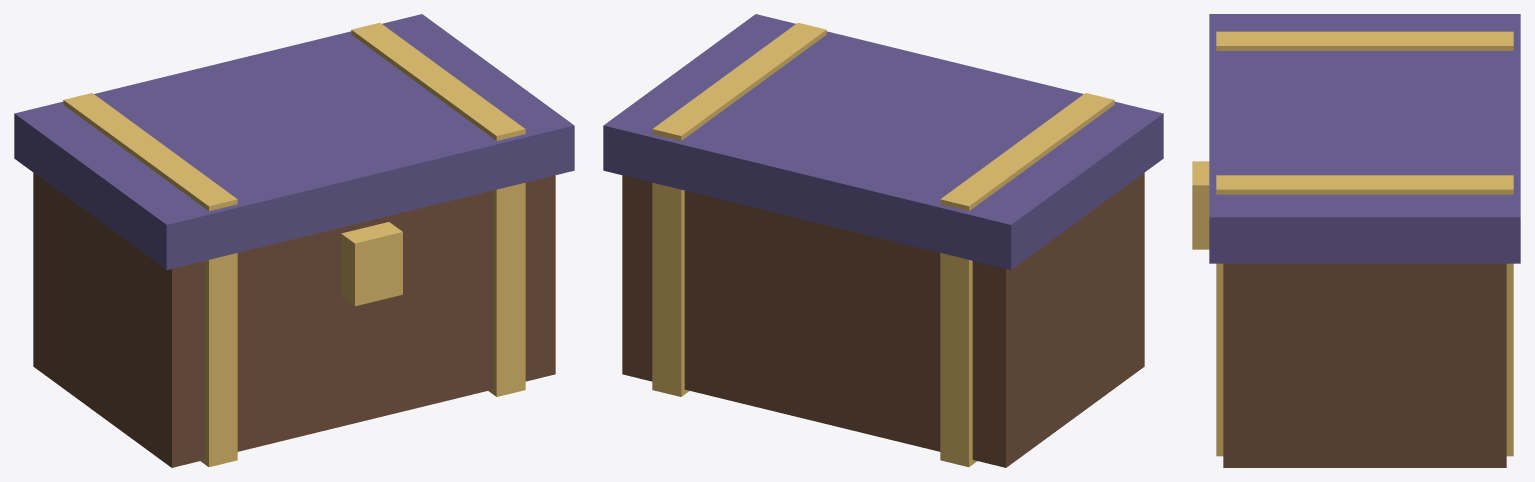
Rendered from chest.glb.
The picture shows the model from 3 angles, left to right: view 1: azimuth 30°, elevation 25°; view 2: azimuth 150°, elevation 25°; view 3: azimuth 270°, elevation 25°; orthographic projection. The views are drawn at different scales.
Visible parts, largest first — view 1: Chest base, Chest lid, Gold chest band.001, Gold chest band, Lock; view 2: Chest base, Chest lid, Gold chest band.001, Gold chest band; view 3: Chest lid, Chest base, Gold chest band.001, Gold chest band, Lock.
Part boxes in pixels (x1,y1,x2,y2): Chest base: (33, 173, 555, 467); Chest lid: (14, 14, 574, 269); Gold chest band.001: (351, 22, 525, 396); Gold chest band: (63, 93, 237, 467); Lock: (341, 222, 402, 306); Chest base: (622, 173, 1144, 467); Chest lid: (603, 14, 1163, 269); Gold chest band.001: (652, 22, 826, 396); Gold chest band: (940, 93, 1114, 467); Chest lid: (1209, 14, 1520, 263); Chest base: (1223, 263, 1506, 467); Gold chest band.001: (1216, 175, 1513, 456); Gold chest band: (1216, 31, 1513, 50); Lock: (1192, 161, 1209, 249).
Bounding box in the file's own units: 1.7 × 1.04 × 1.16.
